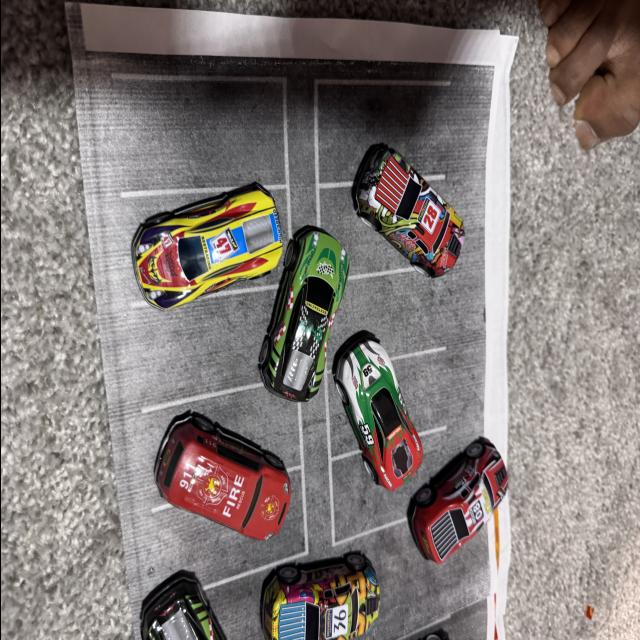Car: (120, 161, 294, 349), (408, 372, 536, 598), (134, 420, 296, 540), (256, 220, 358, 405), (349, 163, 492, 267), (328, 341, 428, 476), (110, 554, 239, 640), (265, 554, 383, 640)
